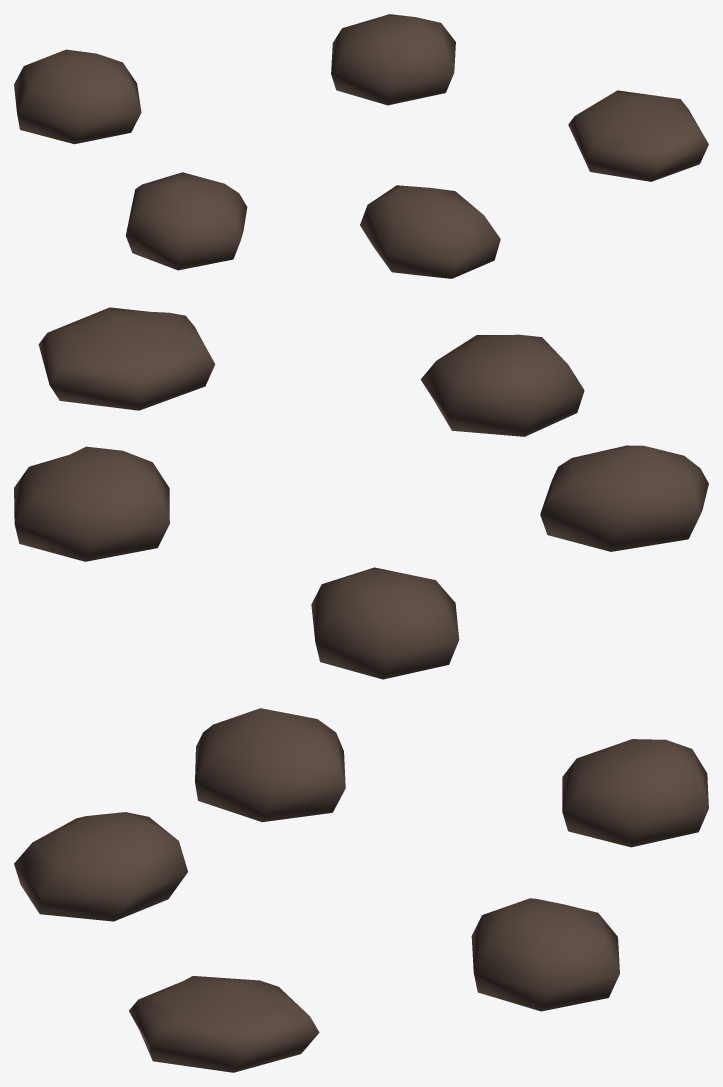
Rendered from candy_assets16.fbx.
The picture shows the model from 3 angles, top to bottom: view 1: azimuth 30°, elevation 25°; view 2: azimuth 150°, elevation 25°; view 3: azimuth 270°, elevation 25°; orthographic projection. The views are drawn at different scales.
Visible parts, largest first — view 1: candy_assets16; view 2: candy_assets16; view 3: candy_assets16.
Part boxes in pixels (x1=…): candy_assets16: x1=14, y1=14, x2=708, y2=278; candy_assets16: x1=14, y1=307, x2=708, y2=679; candy_assets16: x1=14, y1=708, x2=708, y2=1072.
Bounding box in the file's own units: 279 × 36.02 × 255.
Materials: 1 (1 with a texture image).
